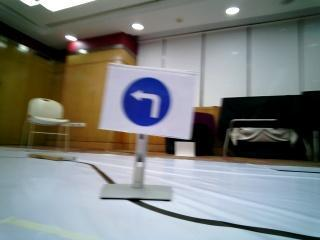left: (106, 67, 187, 134)
